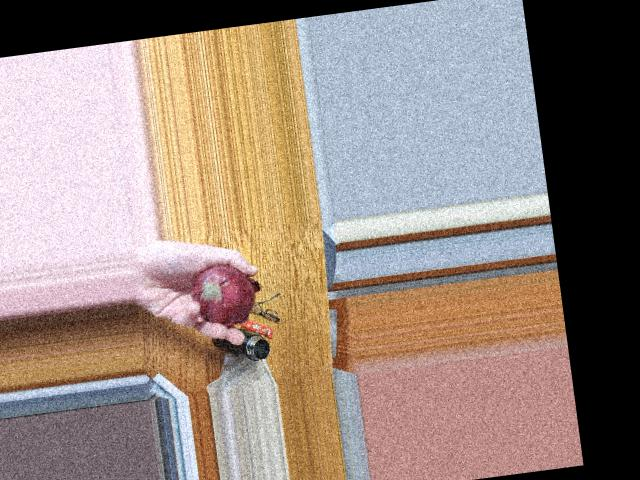onion: (181, 260, 254, 320)
